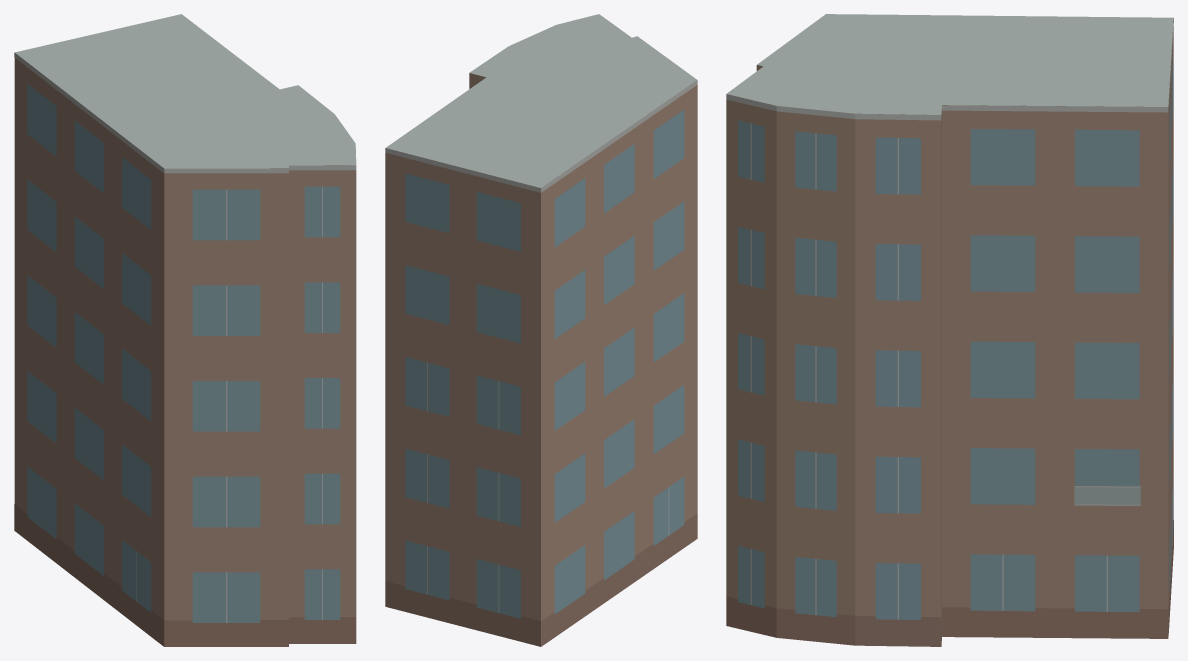
The model's file is survey-upis-32819026.glb.
3 renders of one model, left to right at view 1: azimuth 30°, elevation 25°; view 2: azimuth 150°, elevation 25°; view 3: azimuth 270°, elevation 25°, orthographic. The views are drawn at different scales.
Visible parts, largest first — view 1: survey-upis-32819026.tmp; view 2: survey-upis-32819026.tmp; view 3: survey-upis-32819026.tmp.
Part boxes in pixels (box(x1,y1,x2,y2)): survey-upis-32819026.tmp: box(14, 14, 356, 646); survey-upis-32819026.tmp: box(385, 14, 697, 646); survey-upis-32819026.tmp: box(726, 14, 1173, 646).
Size of the model in its own units: 9.62 by 23.6 by 18.
